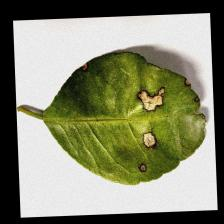greening: (124, 81, 188, 175)
